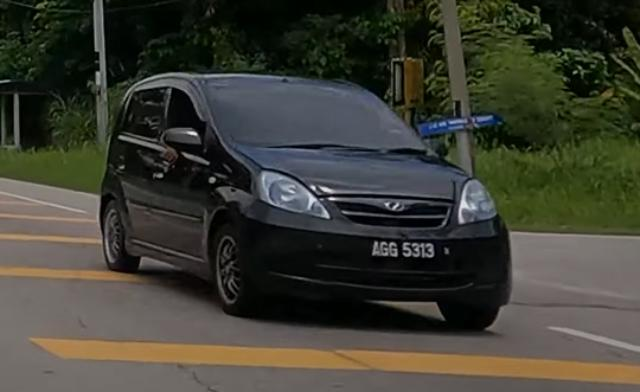License_Plate: (371, 239, 440, 262)
car: (98, 72, 514, 331)
